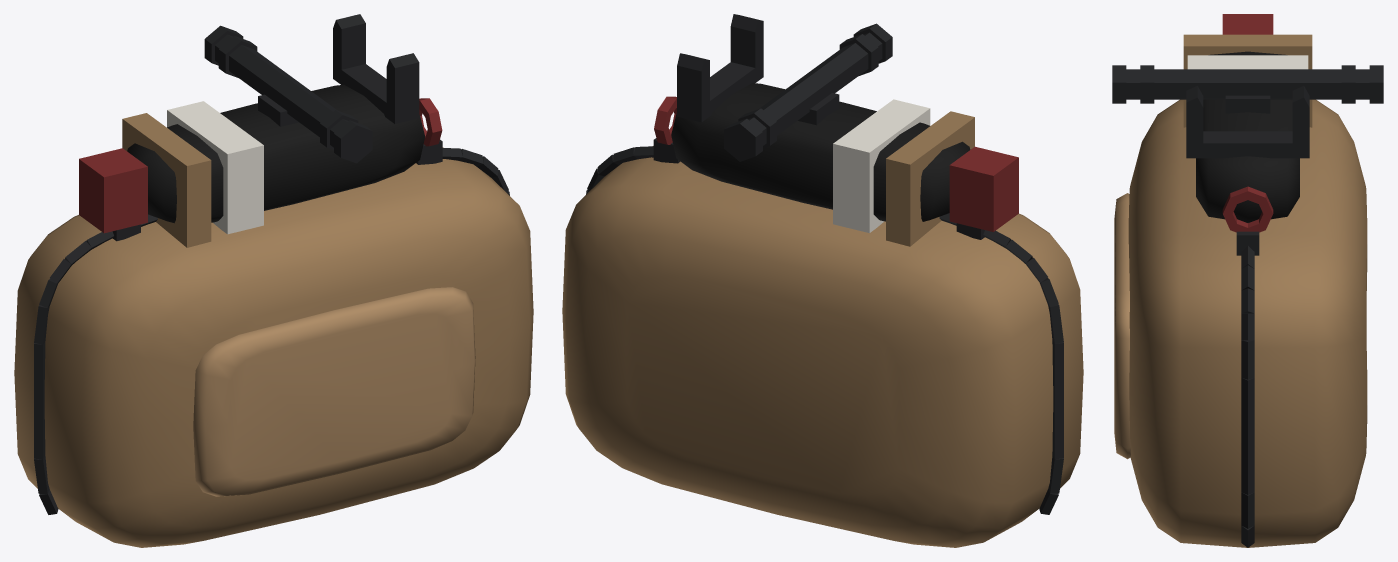
Rendered from medkit.glb.
3 renders of one model, left to right at view 1: azimuth 30°, elevation 25°; view 2: azimuth 150°, elevation 25°; view 3: azimuth 270°, elevation 25°, orthographic.
Parts seen in each view (by area): view 1: medkit; view 2: medkit; view 3: medkit.
Boxes of the visible parts, <box> form: medkit: <box>14,14,533,547</box>; medkit: <box>562,14,1083,547</box>; medkit: <box>1112,14,1383,547</box>.
Size of the model in its own units: 0.1973 by 0.17 by 0.097.
Materials: 1 (1 with a texture image).
